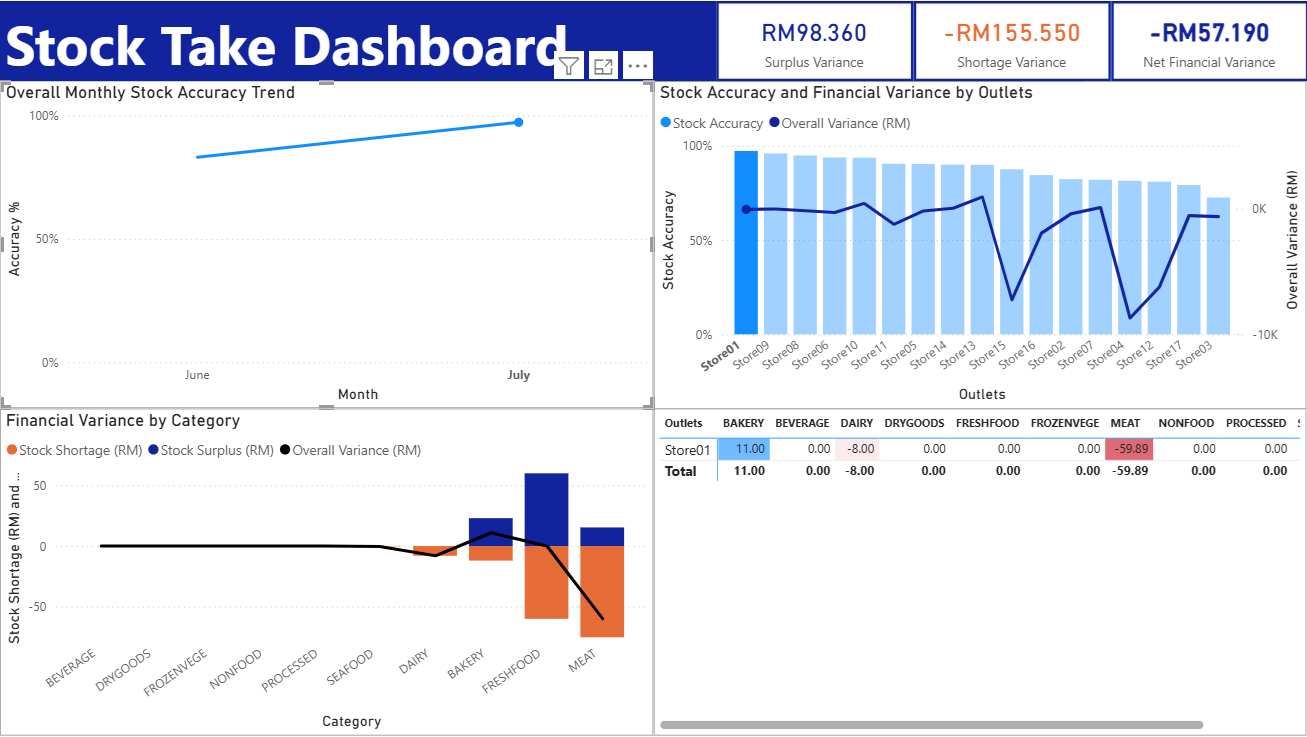

Layout of this report page (visuals, bound fields, positions):
{"tool":"powerbi","page":{"name":"Dashboard","canvas":[1280,720],"ordinal":0},"visuals":[{"type":"lineChart","title":"Overall Monthly Stock Accuracy Trend","fields":{"Y":["Combined.Accuracy %"],"Category":["Combined.Month.Variation.Date Hierarchy.Month"]},"box":[0,78.3,639.5,320.4],"z":0},{"type":"lineStackedColumnComboChart","title":"Stock Accuracy and Financial Variance by Outlets","fields":{"Category":["Combined.Outlets"],"Y":["Combined.Accuracy %"],"Y2":["Sum(Combined.FINAL Variance (RM))"]},"box":[640.1,77.8,638.8,320.8],"z":1000},{"type":"lineStackedColumnComboChart","title":"Financial Variance by Category","fields":{"Category":["Combined.Category"],"Y":["Sum(Combined.Stock Shortage RM)","Sum(Combined.Stock Surplus RM)"],"Y2":["Sum(Combined.FINAL Variance (RM))"]},"box":[0,398.6,639.5,320.4],"z":2000},{"type":"textbox","box":[0,0,1059,78.3],"z":3000},{"type":"card","fields":{"Values":["Sum(Combined.FINAL Variance (RM))"]},"box":[1087.3,0,193,78.5],"z":4000},{"type":"card","fields":{"Values":["Sum(Combined.Stock Shortage RM)"]},"box":[894.3,0,193,78.5],"z":6000},{"type":"card","fields":{"Values":["Sum(Combined.Stock Surplus RM)"]},"box":[701.2,0,193,78.5],"z":7000},{"type":"pivotTable","fields":{"Rows":["Combined.Outlets"],"Columns":["Combined.Category"],"Values":["Sum(Combined.FINAL Variance (RM))"]},"box":[639.5,398.6,638.3,320.4],"z":8000}]}

Visuals, with their boxes in screenshot pixels (x1, y1, x2, y2), scaled from the page's 1280x720 canvas onto the 1307x737 screenshot:
"Overall Monthly Stock Accuracy Trend" lineChart: x1=0, y1=80, x2=653, y2=408
"Stock Accuracy and Financial Variance by Outlets" lineStackedColumnComboChart: x1=654, y1=80, x2=1306, y2=408
"Financial Variance by Category" lineStackedColumnComboChart: x1=0, y1=408, x2=653, y2=736
textbox: x1=0, y1=0, x2=1081, y2=80
card - Sum(Combined.FINAL Variance (RM)): x1=1110, y1=0, x2=1306, y2=80
card - Sum(Combined.Stock Shortage RM): x1=913, y1=0, x2=1110, y2=80
card - Sum(Combined.Stock Surplus RM): x1=716, y1=0, x2=913, y2=80
pivotTable - Combined.Outlets x Combined.Category: x1=653, y1=408, x2=1305, y2=736
